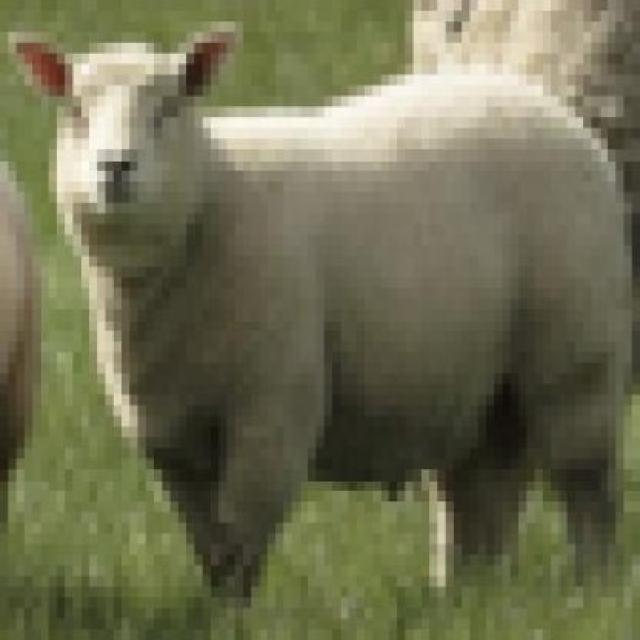Sheep: (8, 11, 632, 629)
